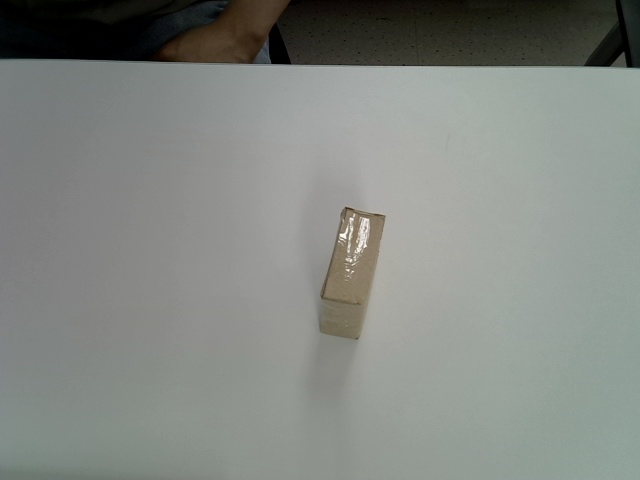normal: (319, 206, 387, 340)
